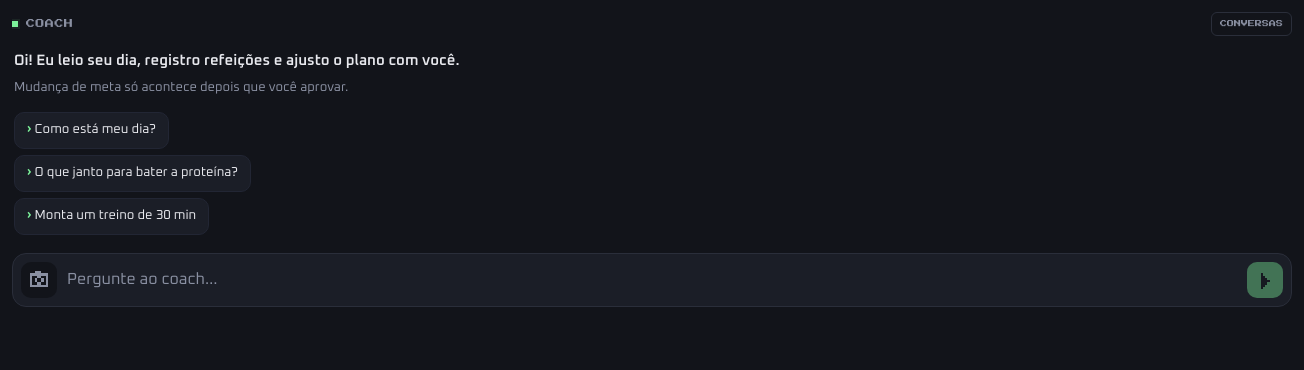
it: Coach › 429 mostra a mensagem de cota e devolve o texto ao campo
The width and height of the screenshot is (1304, 370).
Type "mais uma" into the text box named "mensagem para o coach".
click(652, 280); type("mais uma")  # box [63,262,1241,298]
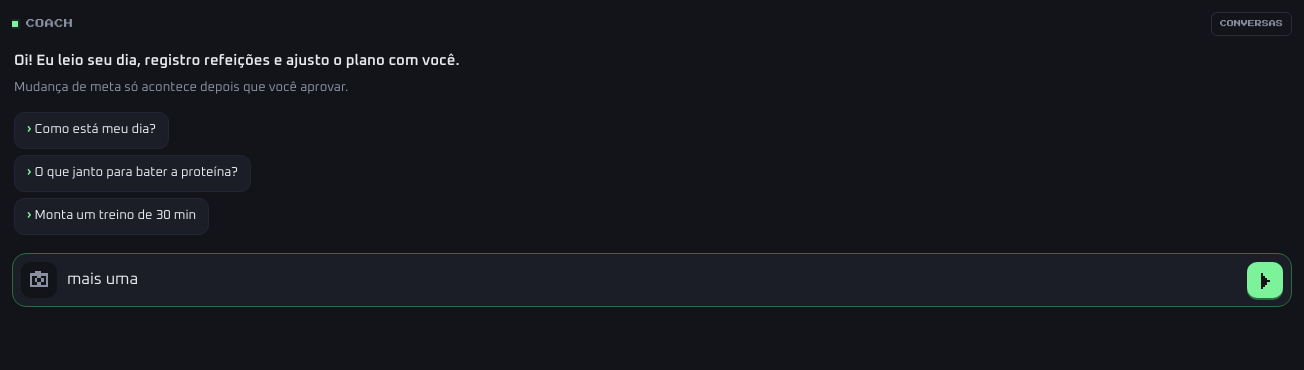
Click the button named "enviar".
click(1265, 280)  # box [1247,262,1283,298]
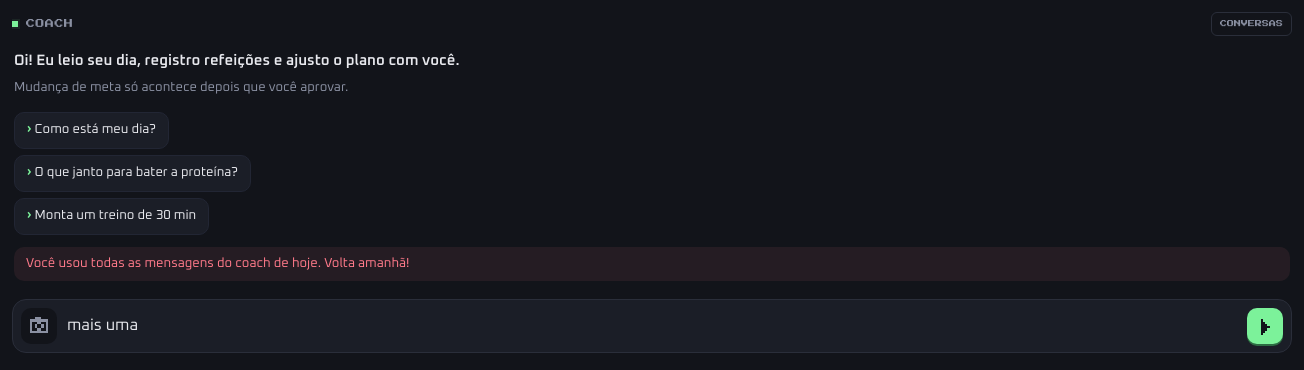
Expected: the message reads "Você usou todas as mensagens do coach de hoje. Volta amanhã!", [26,256,410,270]
